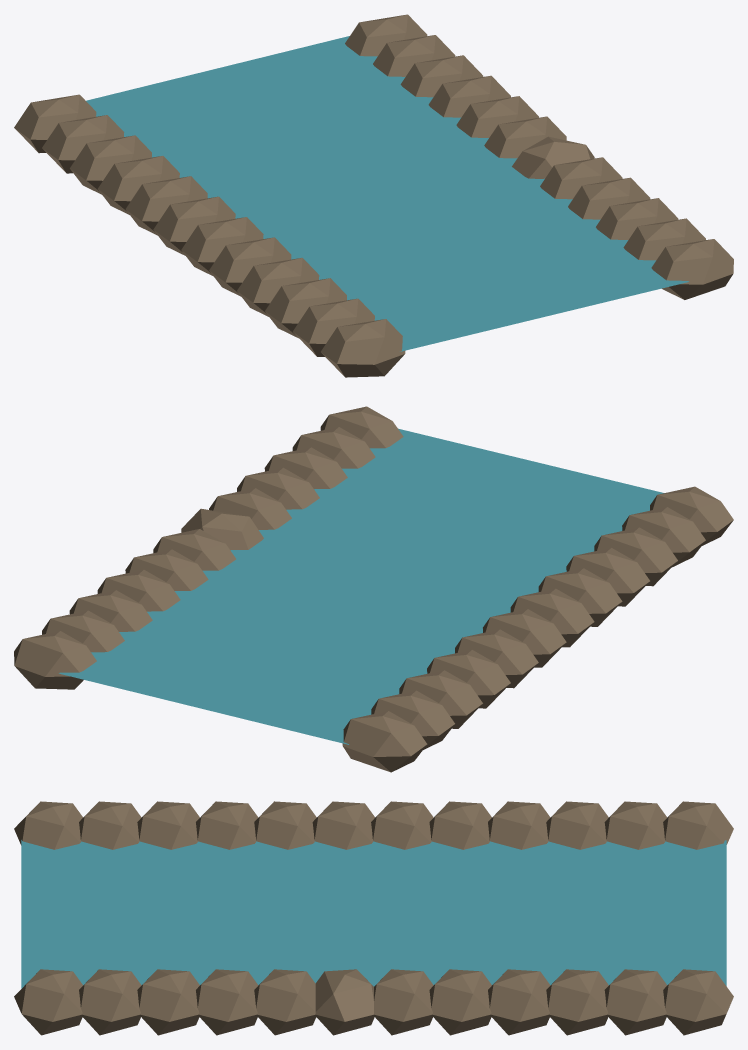
Rendered from landscape-river.lod1.glb.
The picture shows the model from 3 angles, top to bottom: view 1: azimuth 30°, elevation 25°; view 2: azimuth 150°, elevation 25°; view 3: azimuth 270°, elevation 25°; orthographic projection. The views are drawn at different scales.
Visible parts, largest first — view 1: landscape-river__body; view 2: landscape-river__body; view 3: landscape-river__body.
Part boxes in pixels (x1=…): landscape-river__body: x1=14, y1=14, x2=733, y2=377; landscape-river__body: x1=14, y1=406, x2=733, y2=772; landscape-river__body: x1=14, y1=801, x2=733, y2=1035.
Size of the model in its own units: 4.2 by 0.5 by 6.16.
